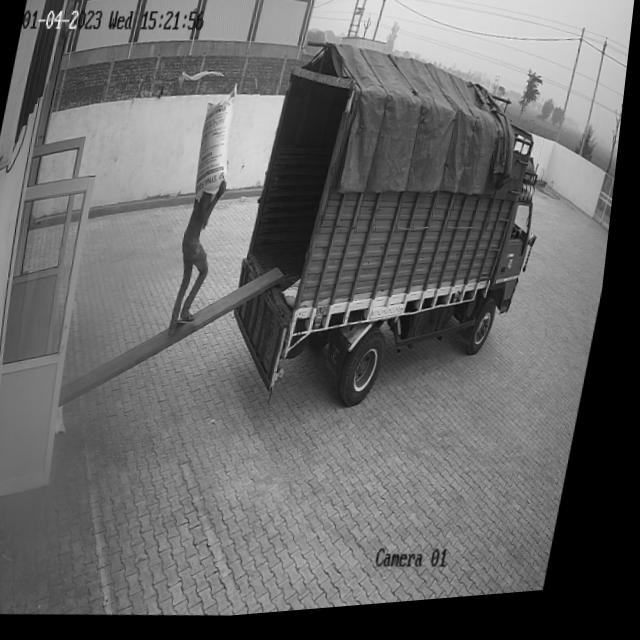sack: (193, 88, 246, 207)
